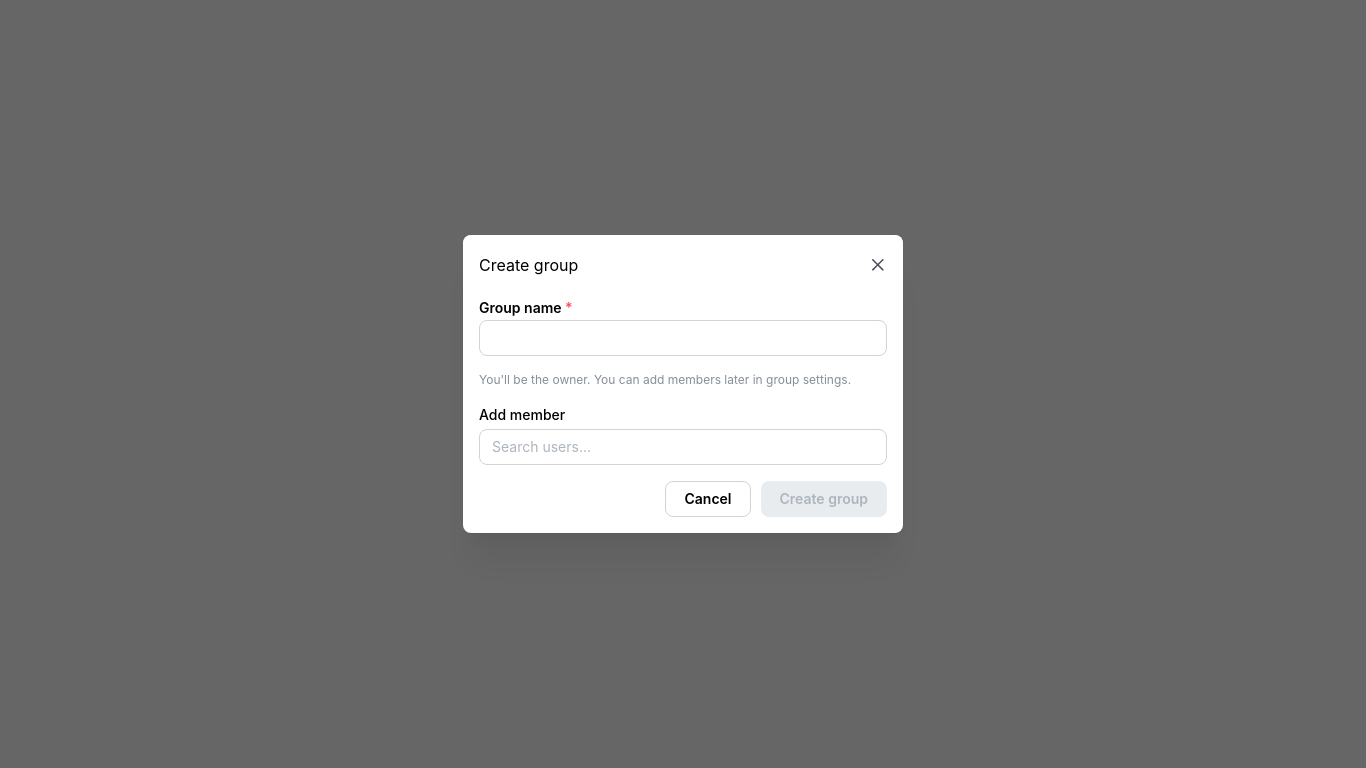
Test: CreateGroupModal › does not offer bots as members
Type "bo" into the field with placeholder "Search users..." at (683, 447), box left=479, top=429, right=887, bottom=465
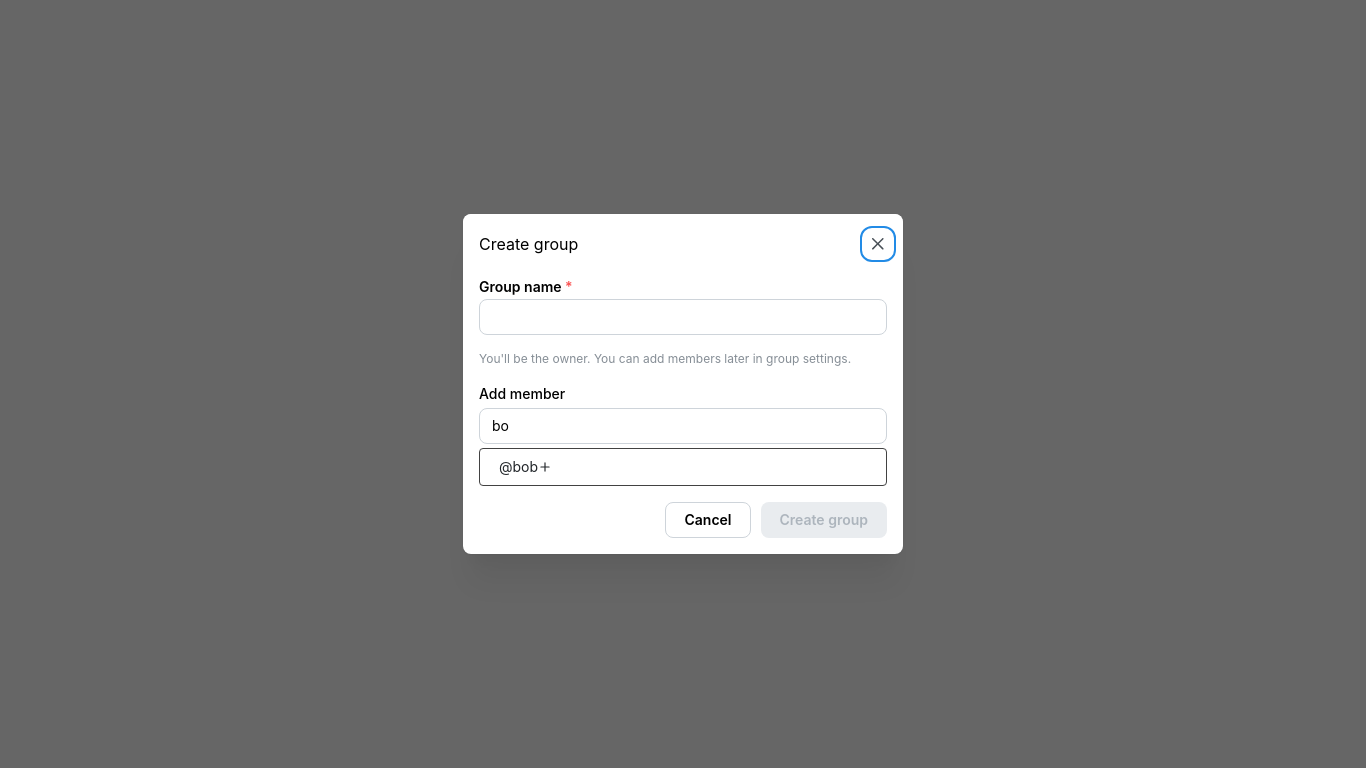
Now the text "@bob" is shown, box left=499, top=457, right=538, bottom=477
